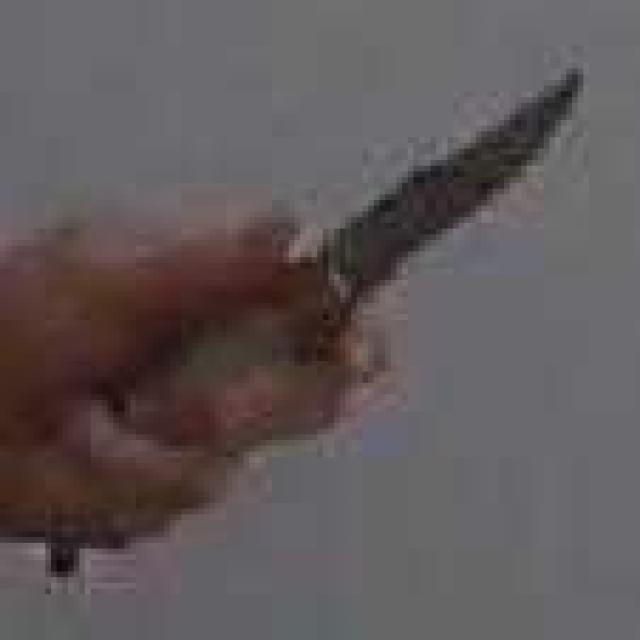Knife: (89, 52, 616, 514)
